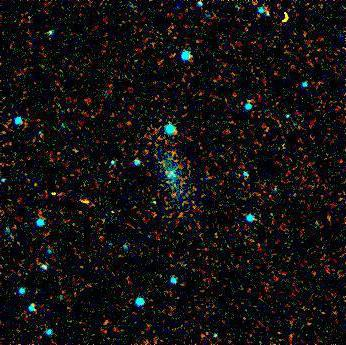star: (72, 185, 102, 215)
